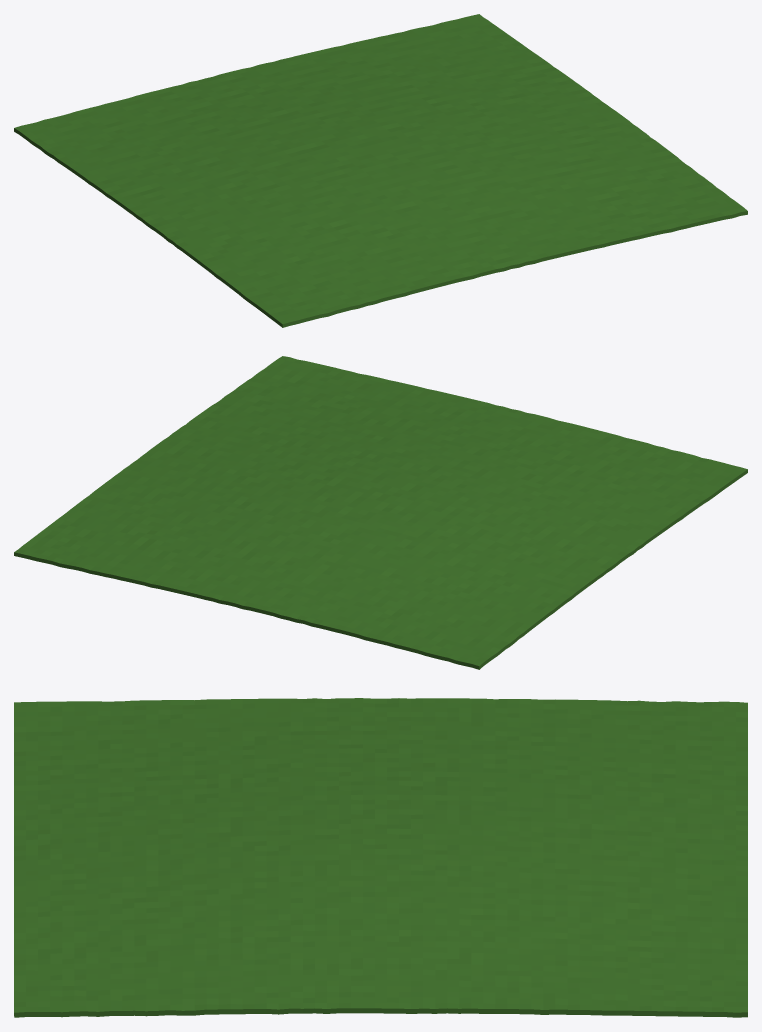
File: base_terreno.fbx
3 views of the same model, one above another, from view 1: azimuth 30°, elevation 25°; view 2: azimuth 150°, elevation 25°; view 3: azimuth 270°, elevation 25° (orthographic). The views are drawn at different scales.
Parts seen in each view (by area): view 1: floor; view 2: floor; view 3: floor.
Boxes of the visible parts, x1,y1,x2,y2 form: floor: (14, 14, 747, 327); floor: (14, 356, 747, 669); floor: (14, 698, 747, 1017).
Bounding box in the file's own units: 10001 × 323 × 10001.
